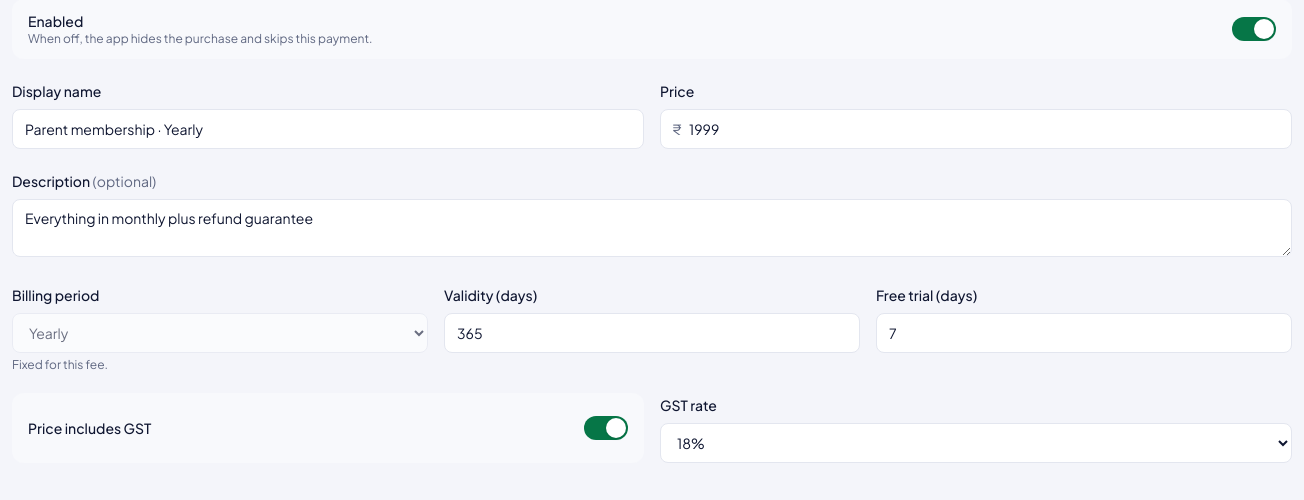
Test: FeeDraftForm › rejects text that is not an amount, without reporting a change, and tidies the box on blur
Step 1. Replace the text in the field labelled "Price" with "12.345" → (976, 129), box [660,109,1292,149]
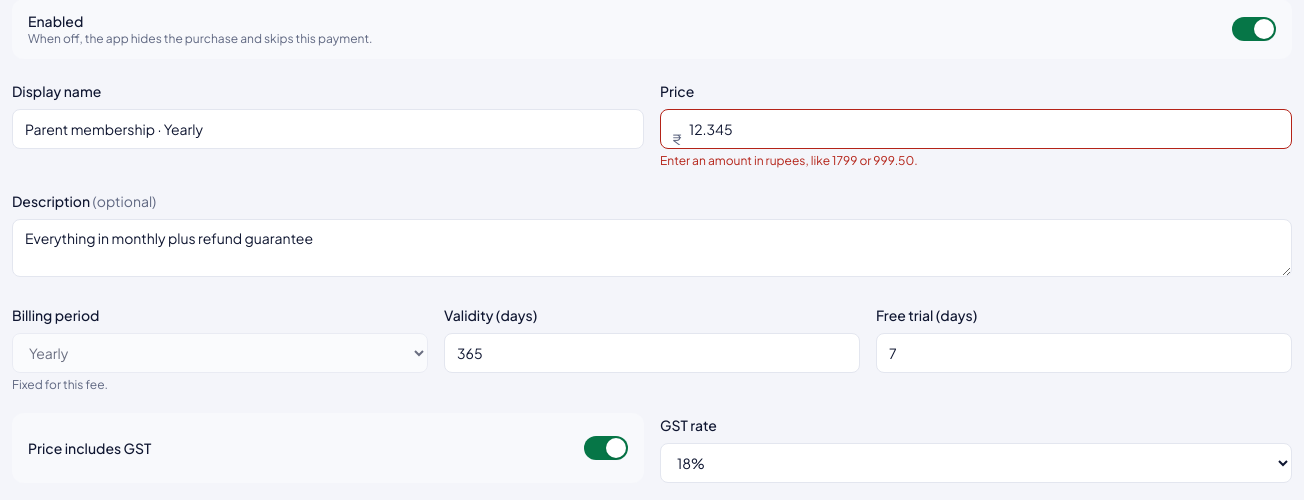
Result: the message reads "Enter an amount in rupees, like 1799 or 999.50." at [660,153,918,168]
Step 2. Replace the text in the field labelled "Price" with "1799.5" → (976, 129), box [660,109,1292,149]
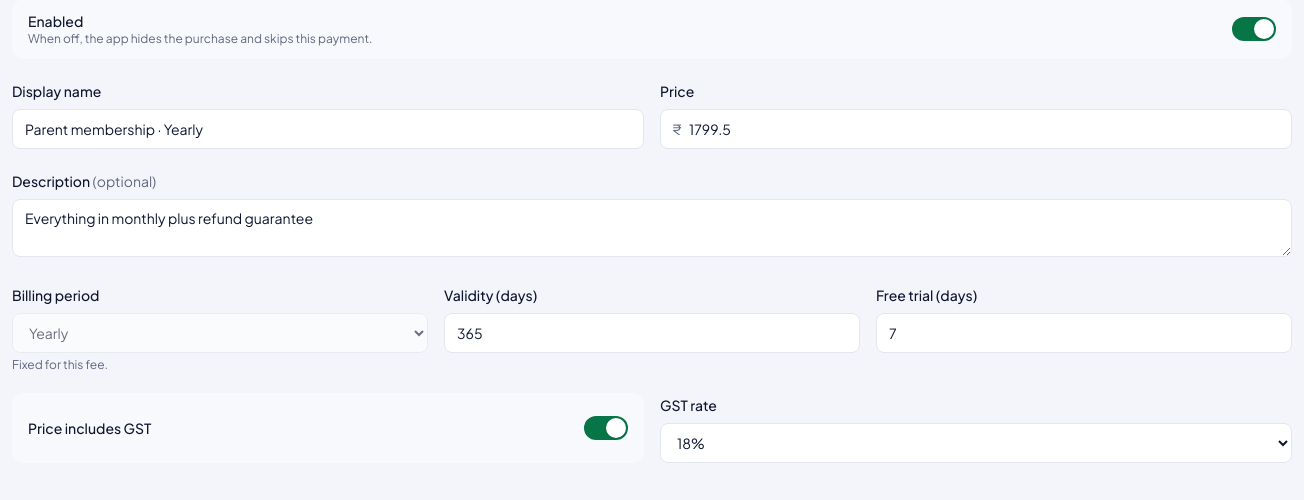
Step 3. Leave the field labelled "Price", box [660,109,1292,149]
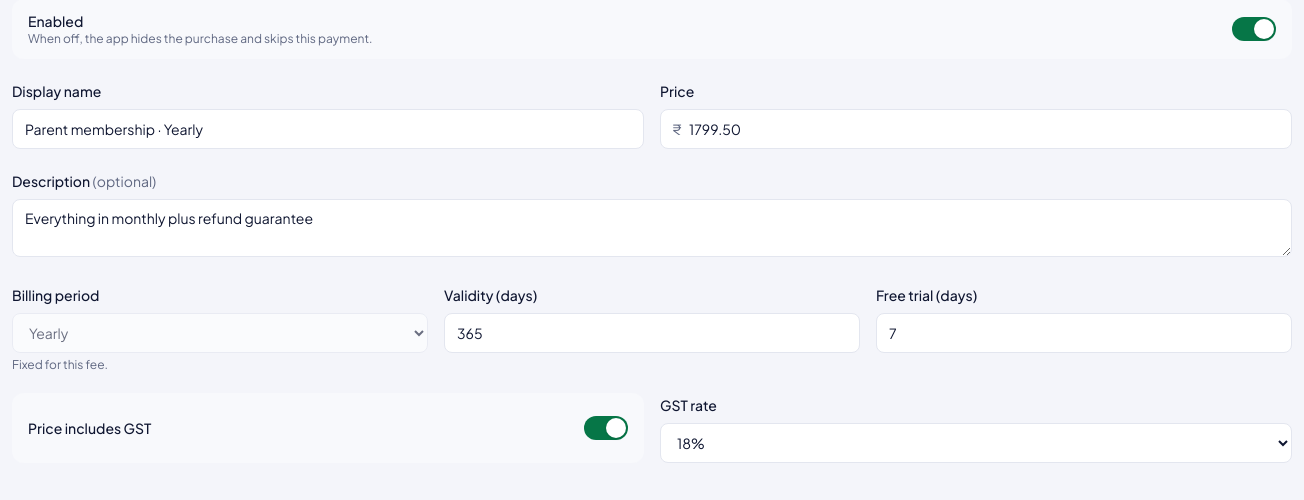
Expected: the message "Enter an amount in rupees, like 1799 or 999.50." is not shown
Result: the field labelled "Price" holds "1799.50" at [660,109,1292,149]
